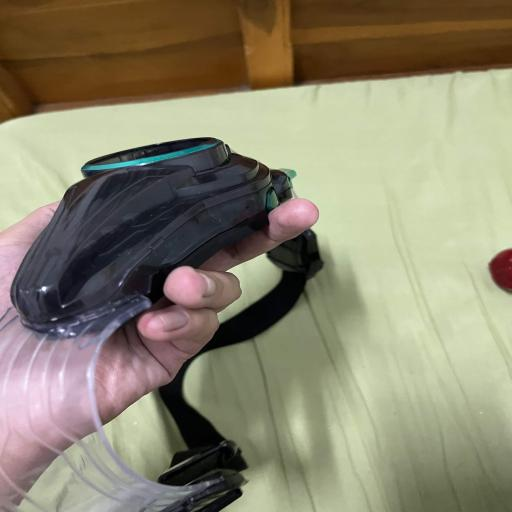zeztzdriver: (0, 138, 295, 512), (199, 229, 323, 355), (160, 363, 216, 448)
